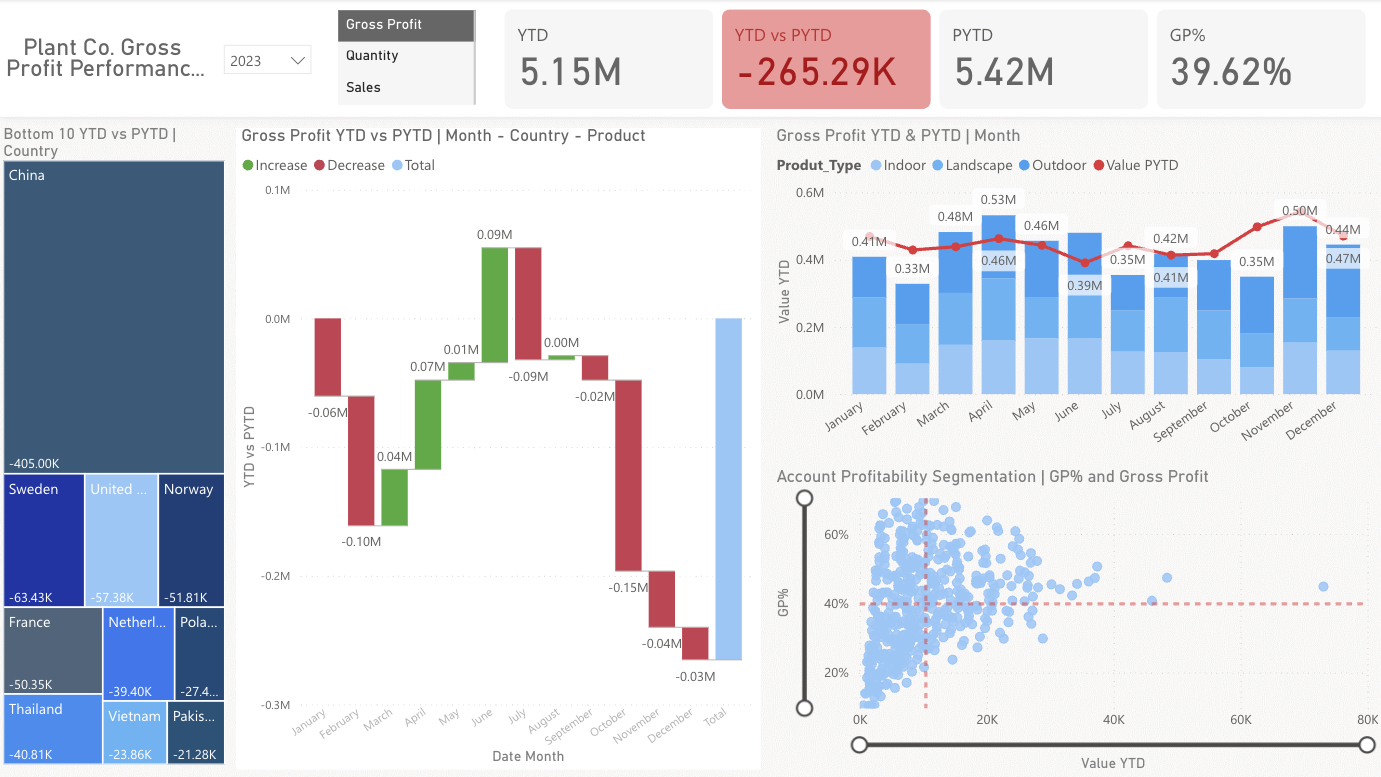

This screenshot's page, from the dashboard's own definition file:
{"tool":"powerbi","page":{"name":"Performance Report","canvas":[1280,720],"ordinal":0},"visuals":[{"type":"cardVisual","fields":{"Data":["_Measures.S_YTD","_Measures.YTD vs PYTD","_Measures.S_PYTD","_Measures.GP%"]},"box":[463,4.2,806.2,102.1],"z":0},{"type":"advancedSlicerVisual","fields":{"Values":["Slc_Values.Values"]},"box":[309.8,5.9,137.3,98],"z":1000},{"type":"slicer","fields":{"Values":["Dim_Date.Date.Variation.Date Hierarchy.Year"]},"box":[198.4,32.7,101.3,50.2],"z":2000},{"type":"treemap","title":"Bottom 10 YTD vs PYTD | Country","fields":{"Values":["_Measures.YTD vs PYTD"],"Group":["Dim_Account.country"]},"box":[0,118.7,214.6,594.4],"z":3000},{"type":"waterfallChart","fields":{"Y":["_Measures.YTD vs PYTD"],"Category":["Dim_Date.Date.Variation.Date Hierarchy.Month","Dim_Account.country","Dim_Product.Produt_Type","Dim_Product.Product_Name"]},"box":[220.3,119.6,485.2,593.5],"z":4000},{"type":"lineStackedColumnComboChart","fields":{"Y":["_Measures.S_YTD"],"Y2":["_Measures.S_PYTD"],"Category":["Dim_Date.Date.Variation.Date Hierarchy.Quarter","Dim_Date.Date.Variation.Date Hierarchy.Month"],"Series":["Dim_Product.Produt_Type"]},"box":[714.1,119.6,565.9,314.3],"z":5000},{"type":"scatterChart","fields":{"Y":["_Measures.GP%"],"X":["_Measures.S_YTD"],"Category":["Dim_Account.Account"]},"box":[714.1,433.9,565.9,285.8],"z":6000},{"type":"card","fields":{"Values":["_Measures._Report title"]},"box":[0,20.9,198.5,68.4],"z":7000}]}

Visuals, with their boxes in screenshot pixels (x1, y1, x2, y2), scaled from the page's 1280x720 canvas onto the 1381x777 screenshot:
cardVisual - _Measures.S_YTD x _Measures.YTD vs PYTD: select_region(500, 5, 1369, 115)
advancedSlicerVisual - Slc_Values.Values: select_region(334, 6, 482, 112)
slicer - Dim_Date.Date.Variation.Date Hierarchy.Year: select_region(214, 35, 323, 89)
"Bottom 10 YTD vs PYTD | Country" treemap: select_region(0, 128, 232, 770)
waterfallChart - _Measures.YTD vs PYTD x Dim_Date.Date.Variation.Date Hierarchy.Month: select_region(238, 129, 761, 770)
lineStackedColumnComboChart - _Measures.S_YTD x _Measures.S_PYTD: select_region(770, 129, 1380, 468)
scatterChart - _Measures.GP% x _Measures.S_YTD: select_region(770, 468, 1380, 776)
card - _Measures._Report title: select_region(0, 23, 214, 96)
